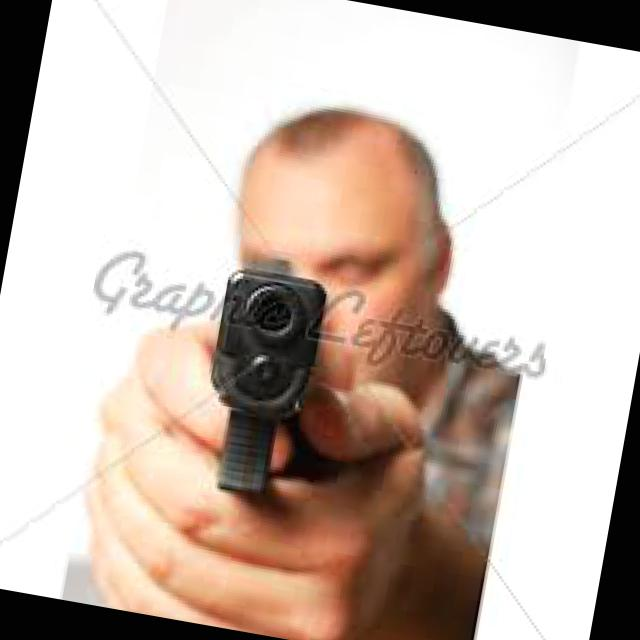handgun: (180, 238, 338, 507)
